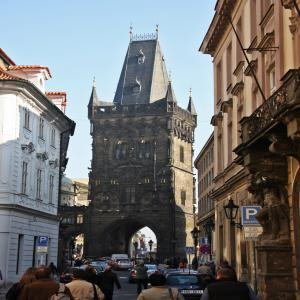Vehicle-registration-plate: (181, 291, 204, 295)
